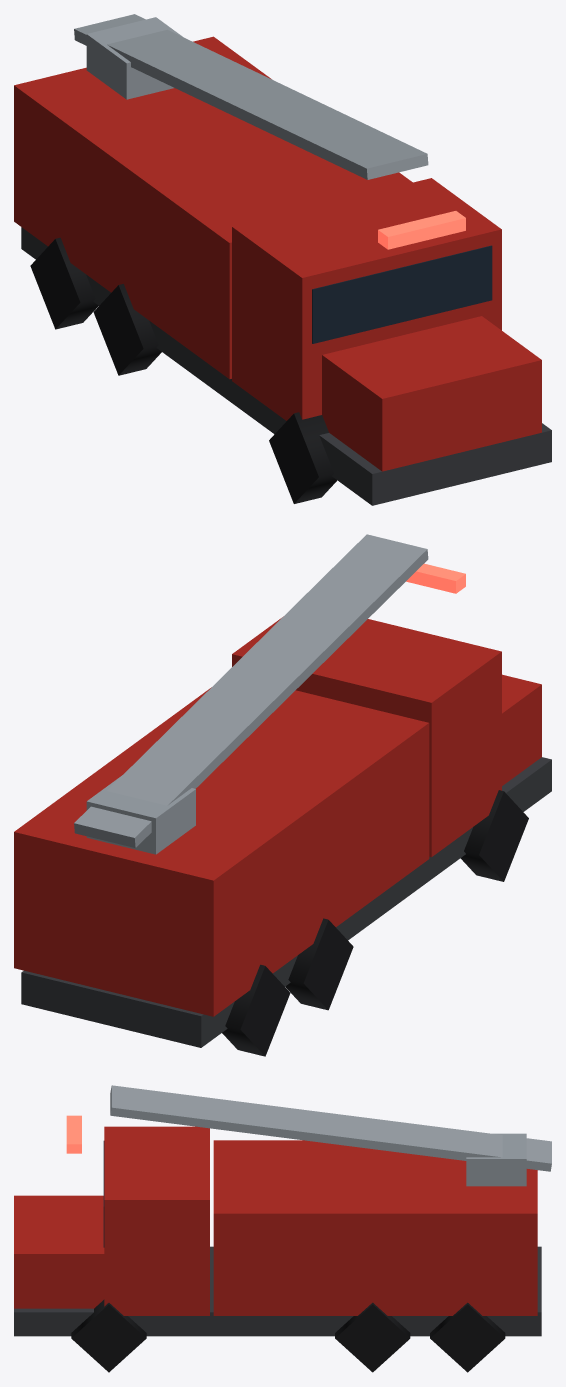
The model's file is veh_ground_fire_truck_a05_lod2.glb.
3 views of the same model, one above another, from view 1: azimuth 30°, elevation 25°; view 2: azimuth 150°, elevation 25°; view 3: azimuth 270°, elevation 25° (orthographic). The views are drawn at different scales.
Parts seen in each view (by area): view 1: body, ladder, wheel_4, wheel_0, wheel_2; view 2: body, ladder, wheel_0, wheel_2, wheel_4; view 3: body, ladder, wheel_5, wheel_1, wheel_3.
Part boxes in pixels (x1,y1,x2,y2): body: (14,36,551,505); ladder: (74,14,428,179); wheel_4: (269,412,336,503); wheel_0: (30,237,98,329); wheel_2: (93,284,161,375); body: (14,563,551,1047); ladder: (74,534,428,854); wheel_0: (222,964,290,1056); wheel_2: (285,918,353,1010); wheel_4: (460,790,528,881); body: (14,1115,541,1336); ladder: (110,1085,551,1186); wheel_5: (71,1299,146,1372); wheel_1: (430,1302,505,1372); wheel_3: (335,1302,410,1372).
Size of the model in its own units: 2.42 by 3.48 by 7.14.
